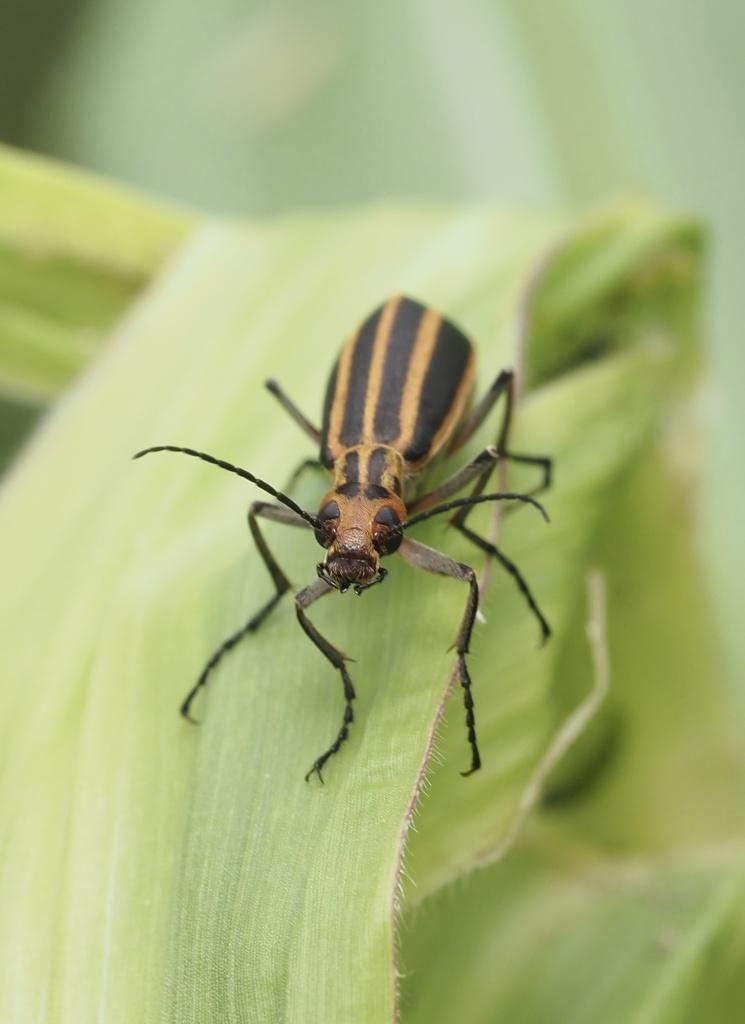blister_beetle: (70, 169, 710, 827)
